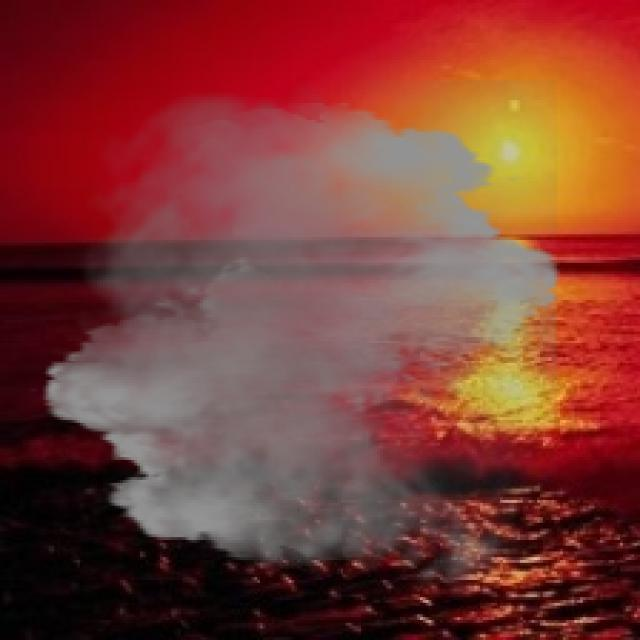Smoke: (25, 80, 578, 603)
